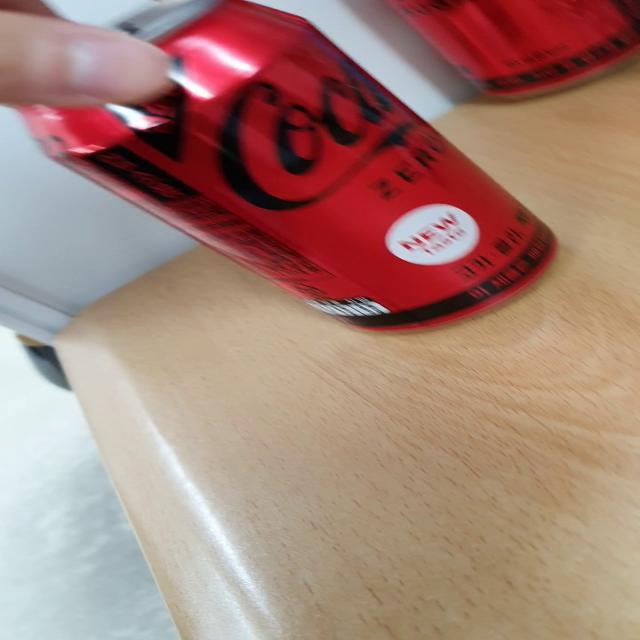coca-cola: (19, 0, 584, 340)
